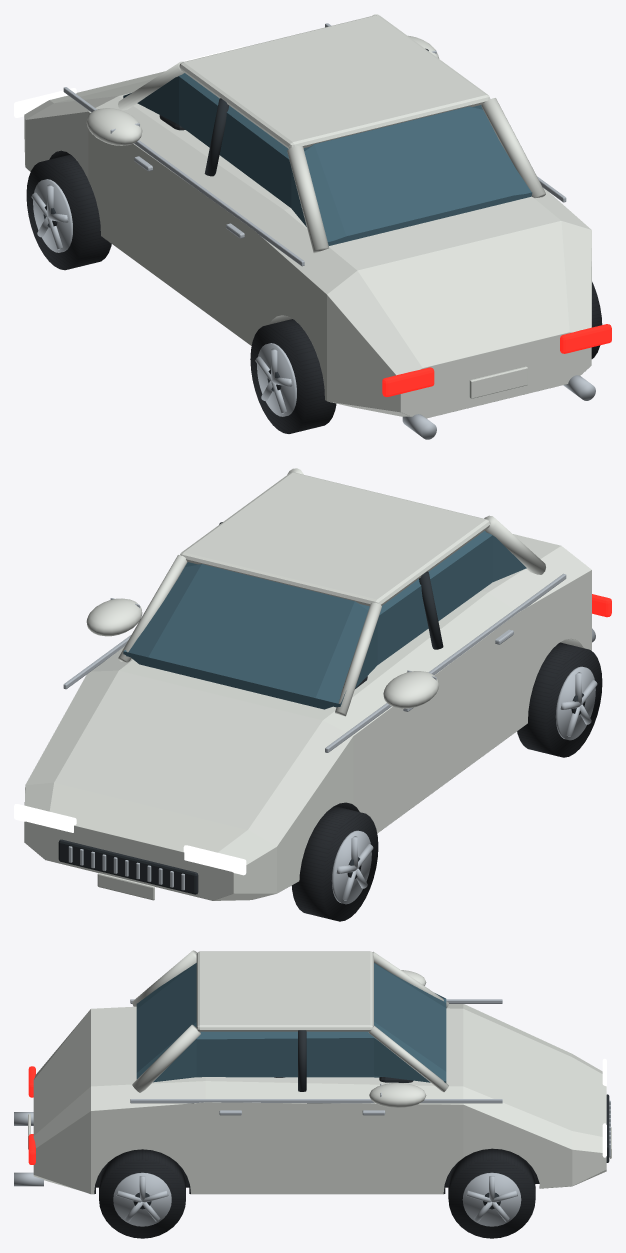
The model's file is mc_suv.glb.
The picture shows the model from 3 angles, top to bottom: view 1: azimuth 30°, elevation 25°; view 2: azimuth 150°, elevation 25°; view 3: azimuth 270°, elevation 25°; orthographic projection. The views are drawn at different scales.
Parts seen in each view (by area): view 1: mc_suv__Geometry, mc_suv__Wheel_L.001, mc_suv__Wheel_L; view 2: mc_suv__Geometry, mc_suv__Wheel_L.001, mc_suv__Wheel_L; view 3: mc_suv__Geometry, mc_suv__Wheel_R.001, mc_suv__Wheel_R.
Part boxes in pixels (x1=…): mc_suv__Geometry: x1=14, y1=14, x2=611, y2=439; mc_suv__Wheel_L.001: x1=26, y1=154, x2=111, y2=270; mc_suv__Wheel_L: x1=250, y1=319, x2=336, y2=433; mc_suv__Geometry: x1=14, y1=468, x2=611, y2=904; mc_suv__Wheel_L.001: x1=291, y1=806, x2=378, y2=921; mc_suv__Wheel_L: x1=517, y1=642, x2=602, y2=757; mc_suv__Geometry: x1=14, y1=950, x2=611, y2=1226; mc_suv__Wheel_R.001: x1=448, y1=1148, x2=535, y2=1238; mc_suv__Wheel_R: x1=99, y1=1149, x2=185, y2=1238.
Size of the model in its own units: 2.56 by 1.79 by 5.01.
8 materials, 2 textured.
